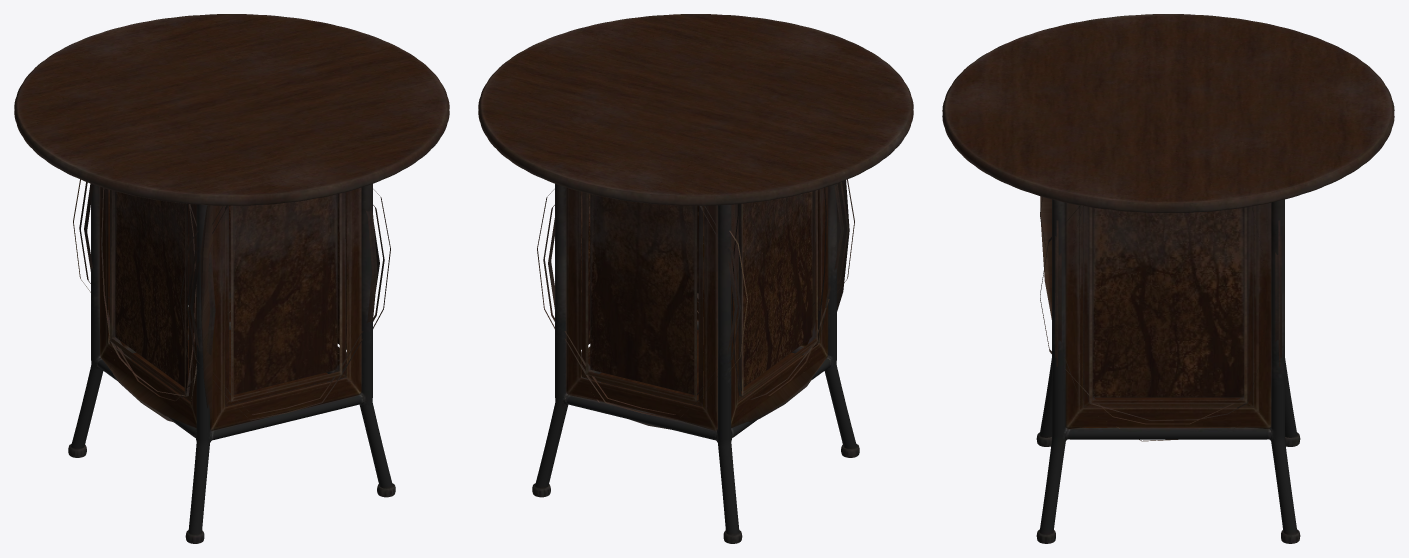
The model's file is round_wooden_table_02.glb.
3 views of the same model, side by side, from view 1: azimuth 30°, elevation 25°; view 2: azimuth 150°, elevation 25°; view 3: azimuth 270°, elevation 25° (orthographic). The views are drawn at different scales.
Parts seen in each view (by area): view 1: round_wooden_table_02; view 2: round_wooden_table_02; view 3: round_wooden_table_02.
Boxes of the visible parts, box(x1,y1,x2,y2) form: round_wooden_table_02: box(14, 14, 449, 543); round_wooden_table_02: box(478, 14, 913, 543); round_wooden_table_02: box(942, 14, 1394, 543).
Size of the model in its own units: 0.797 by 0.7469 by 0.797.
Materials: 1 (1 with a texture image).
